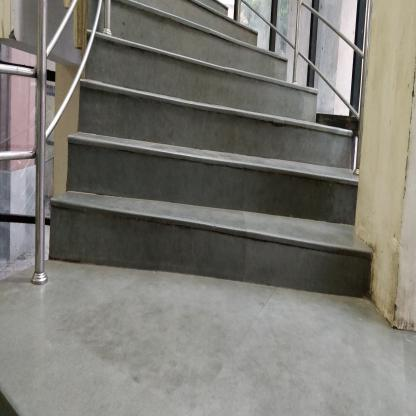stairs: (83, 93, 309, 297)
